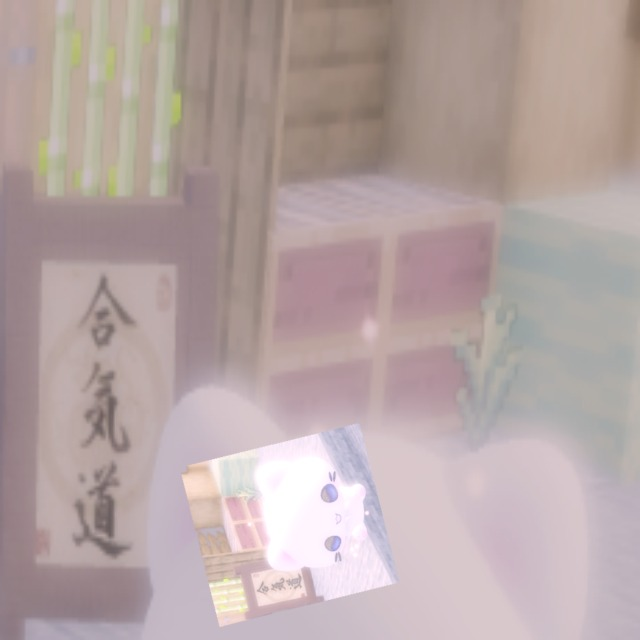urso_branco: (179, 423, 400, 627)
